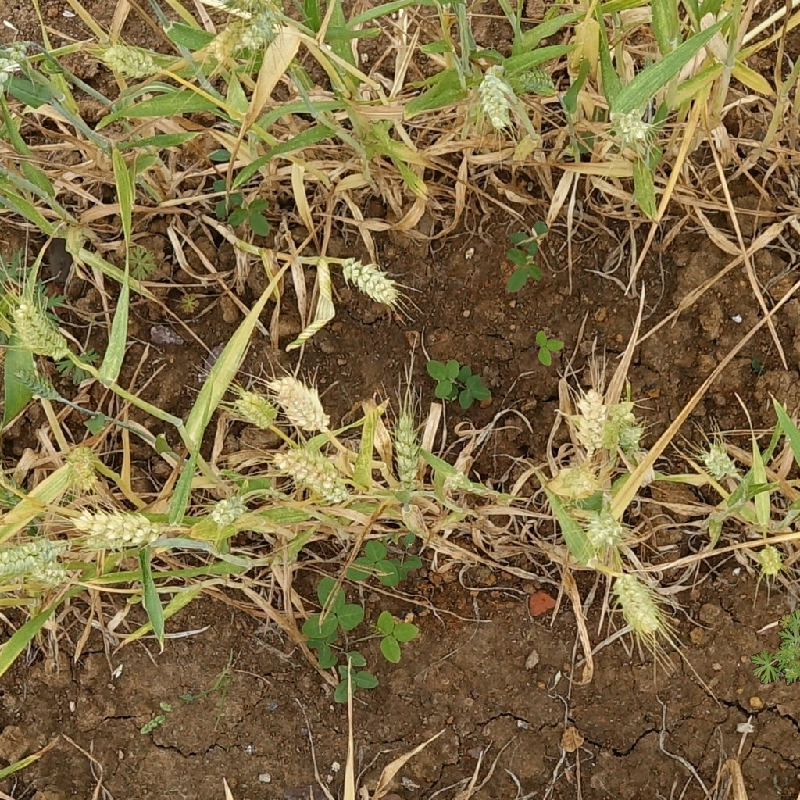spikelet: (272, 443, 354, 505), (73, 503, 167, 551), (9, 296, 74, 361), (270, 371, 331, 433), (387, 406, 427, 500), (338, 253, 403, 309), (610, 569, 663, 635), (1, 532, 67, 579), (475, 61, 517, 132), (98, 39, 163, 80), (571, 383, 610, 450), (205, 15, 252, 67), (237, 5, 285, 54), (606, 103, 655, 149), (550, 460, 600, 504), (60, 440, 101, 493), (10, 362, 63, 402), (231, 386, 278, 430), (606, 399, 645, 451), (582, 507, 627, 550), (697, 440, 740, 481), (205, 490, 250, 528), (29, 555, 72, 590), (197, 1, 283, 18), (514, 63, 558, 95), (753, 541, 786, 576), (1, 38, 22, 85)
weed: (489, 219, 565, 295), (348, 530, 435, 595), (306, 579, 364, 659), (423, 356, 496, 414), (756, 609, 800, 689), (373, 608, 420, 669), (123, 244, 156, 281), (536, 331, 565, 366)
